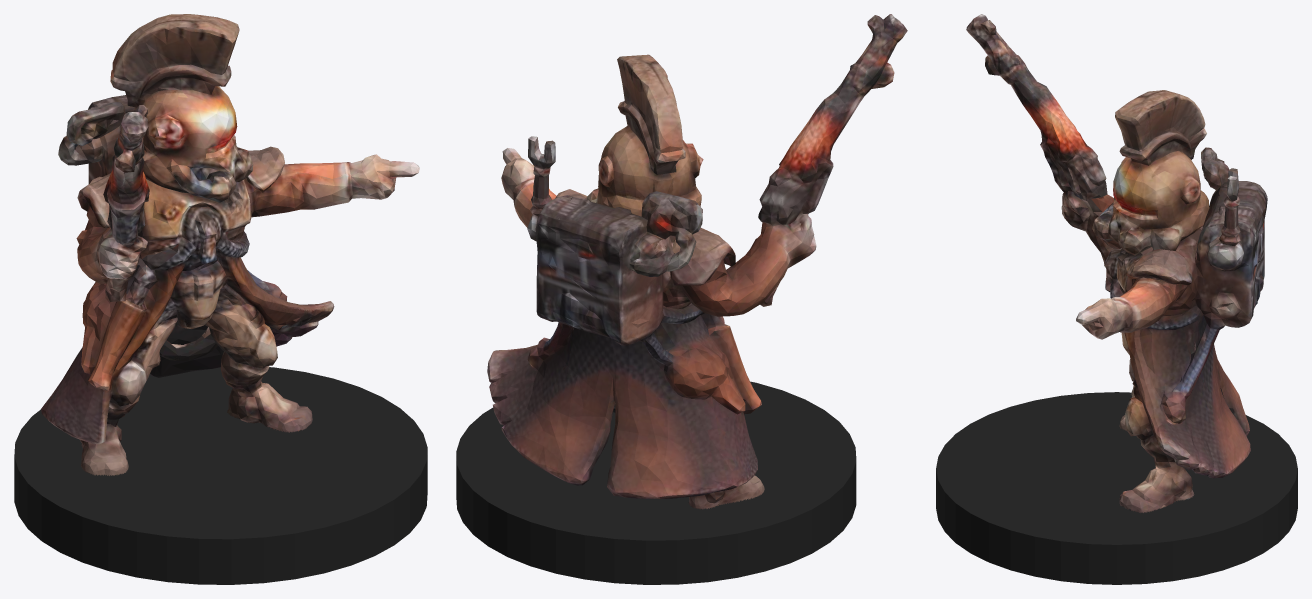
Rendered from hc-skitarii-ranger-alpha.glb.
3 views of the same model, side by side, from view 1: azimuth 30°, elevation 25°; view 2: azimuth 150°, elevation 25°; view 3: azimuth 270°, elevation 25° (orthographic). The views are drawn at different scales.
Parts seen in each view (by area): view 1: figure, base; view 2: figure, base; view 3: figure, base.
Part boxes in pixels (bbox=[...]): figure: bbox=[41, 14, 419, 475]; base: bbox=[14, 367, 427, 584]; figure: bbox=[487, 14, 907, 509]; base: bbox=[456, 381, 856, 584]; figure: bbox=[966, 14, 1267, 512]; base: bbox=[936, 392, 1297, 584].
Size of the model in its own units: 0.9843 by 1.27 by 0.9843.
2 materials, 1 textured.
